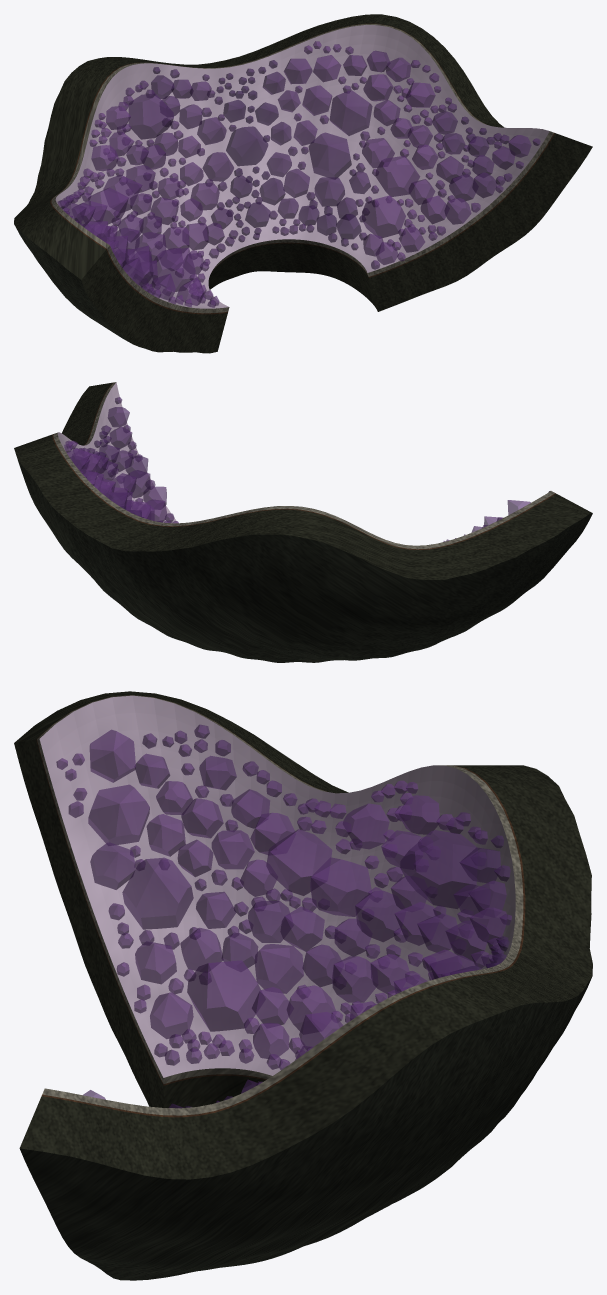
Rendered from specimen.glb.
The picture shows the model from 3 angles, top to bottom: view 1: azimuth 30°, elevation 25°; view 2: azimuth 150°, elevation 25°; view 3: azimuth 270°, elevation 25°; orthographic projection. The views are drawn at different scales.
Visible parts, largest first — view 1: fragment-lining, amethyst-growth, broken-end-2, broken-end-0, fragment-outer, broken-end-1; view 2: fragment-outer, broken-end-2, amethyst-growth, fragment-lining, broken-end-0, broken-end-1; view 3: fragment-lining, amethyst-growth, broken-end-2, fragment-outer, broken-end-0, broken-end-1.
Boxes of the visible parts, box(x1,y1,x2,y2) form: fragment-lining: box(55, 25, 549, 308); amethyst-growth: box(57, 41, 540, 307); broken-end-2: box(14, 14, 592, 353); broken-end-0: box(51, 24, 553, 313); fragment-outer: box(16, 228, 131, 343); broken-end-1: box(50, 23, 554, 314); fragment-outer: box(14, 448, 592, 662); broken-end-2: box(14, 382, 592, 579); amethyst-growth: box(64, 397, 530, 541); fragment-lining: box(57, 382, 550, 523); broken-end-0: box(53, 382, 554, 549); broken-end-1: box(52, 382, 555, 549); fragment-lining: box(39, 695, 515, 1077); amethyst-growth: box(56, 724, 511, 1108); broken-end-2: box(14, 691, 592, 1179); fragment-outer: box(19, 977, 591, 1280); broken-end-0: box(37, 695, 523, 1115); broken-end-1: box(36, 695, 525, 1117).
Bounding box in the file's own units: 0.0444 × 0.0172 × 0.0252.
3 materials, 1 textured.
